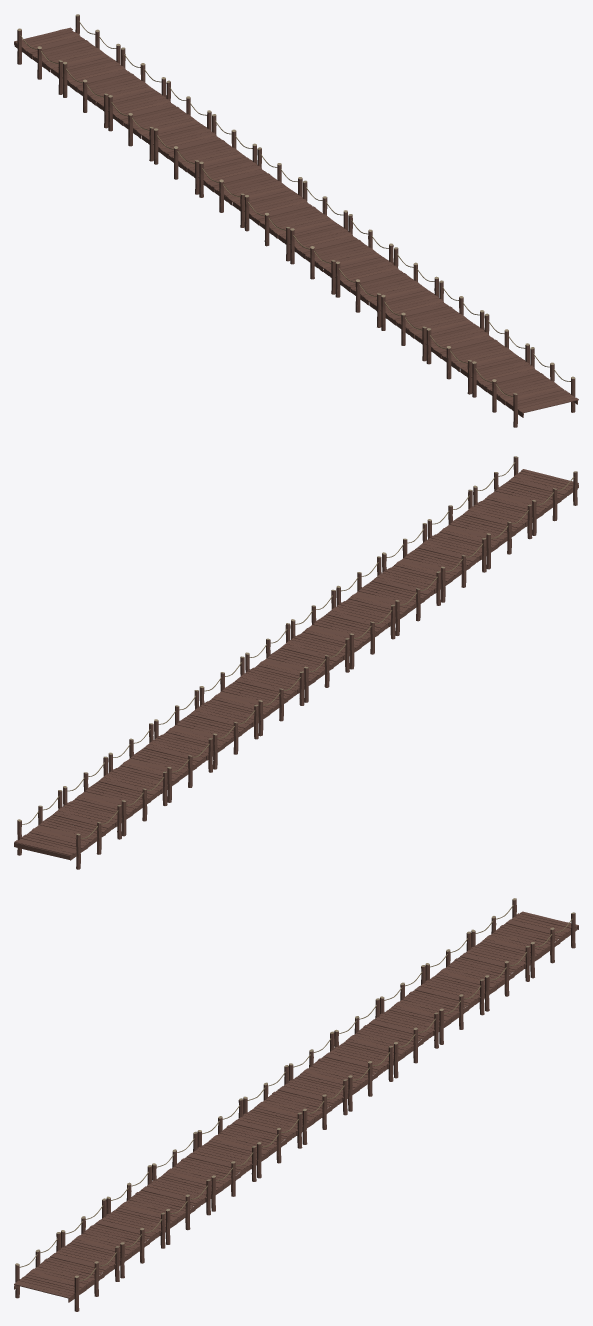
The model's file is pond.glb.
The picture shows the model from 3 angles, top to bottom: view 1: azimuth 30°, elevation 25°; view 2: azimuth 150°, elevation 25°; view 3: azimuth 330°, elevation 25°; orthographic projection.
Parts seen in each view (by area): view 1: Dock_Wide, Dock_Wide_1.010, Dock_Wide_1.001, Dock_Wide_1.003, Dock_Wide_1.005, Dock_Wide_1.008, Dock_Wide_1.009, Dock_Wide_1.007, Dock_Wide_1.004, Dock_Wide_1.006, Dock_Wide_1.002; view 2: Dock_Wide_1.010, Dock_Wide, Dock_Wide_1.009, Dock_Wide_1.006, Dock_Wide_1.004, Dock_Wide_1.002, Dock_Wide_1.005, Dock_Wide_1.008, Dock_Wide_1.003, Dock_Wide_1.007, Dock_Wide_1.001; view 3: Dock_Wide, Dock_Wide_1.010, Dock_Wide_1.006, Dock_Wide_1.004, Dock_Wide_1.003, Dock_Wide_1.007, Dock_Wide_1.008, Dock_Wide_1.009, Dock_Wide_1.001, Dock_Wide_1.002, Dock_Wide_1.005.
Part boxes in pixels (x1=…): Dock_Wide: x1=471, y1=347, x2=578, y2=427; Dock_Wide_1.010: x1=14, y1=15, x2=124, y2=94; Dock_Wide_1.001: x1=425, y1=315, x2=533, y2=394; Dock_Wide_1.003: x1=335, y1=248, x2=442, y2=327; Dock_Wide_1.005: x1=244, y1=182, x2=351, y2=261; Dock_Wide_1.008: x1=107, y1=82, x2=215, y2=161; Dock_Wide_1.009: x1=62, y1=49, x2=169, y2=128; Dock_Wide_1.007: x1=153, y1=115, x2=260, y2=194; Dock_Wide_1.004: x1=289, y1=215, x2=396, y2=294; Dock_Wide_1.006: x1=198, y1=148, x2=305, y2=227; Dock_Wide_1.002: x1=380, y1=282, x2=487, y2=361; Dock_Wide_1.010: x1=14, y1=791, x2=121, y2=869; Dock_Wide: x1=470, y1=456, x2=578, y2=535; Dock_Wide_1.009: x1=60, y1=757, x2=167, y2=836; Dock_Wide_1.006: x1=197, y1=657, x2=304, y2=736; Dock_Wide_1.004: x1=288, y1=590, x2=395, y2=669; Dock_Wide_1.002: x1=379, y1=524, x2=486, y2=602; Dock_Wide_1.005: x1=243, y1=624, x2=349, y2=702; Dock_Wide_1.008: x1=106, y1=724, x2=212, y2=802; Dock_Wide_1.003: x1=334, y1=557, x2=440, y2=635; Dock_Wide_1.007: x1=151, y1=690, x2=258, y2=769; Dock_Wide_1.001: x1=425, y1=490, x2=532, y2=569; Dock_Wide: x1=14, y1=1232, x2=120, y2=1311; Dock_Wide_1.010: x1=471, y1=899, x2=578, y2=978; Dock_Wide_1.006: x1=288, y1=1033, x2=393, y2=1111; Dock_Wide_1.004: x1=197, y1=1100, x2=302, y2=1178; Dock_Wide_1.003: x1=152, y1=1133, x2=257, y2=1211; Dock_Wide_1.007: x1=334, y1=999, x2=439, y2=1078; Dock_Wide_1.008: x1=380, y1=966, x2=485, y2=1044; Dock_Wide_1.009: x1=425, y1=933, x2=530, y2=1011; Dock_Wide_1.001: x1=61, y1=1200, x2=165, y2=1278; Dock_Wide_1.002: x1=106, y1=1166, x2=211, y2=1244; Dock_Wide_1.005: x1=243, y1=1066, x2=348, y2=1144.
Size of the model in its own units: 4.39 by 2.3 by 61.51.
